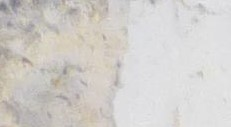Spalling: (1, 1, 129, 127)
